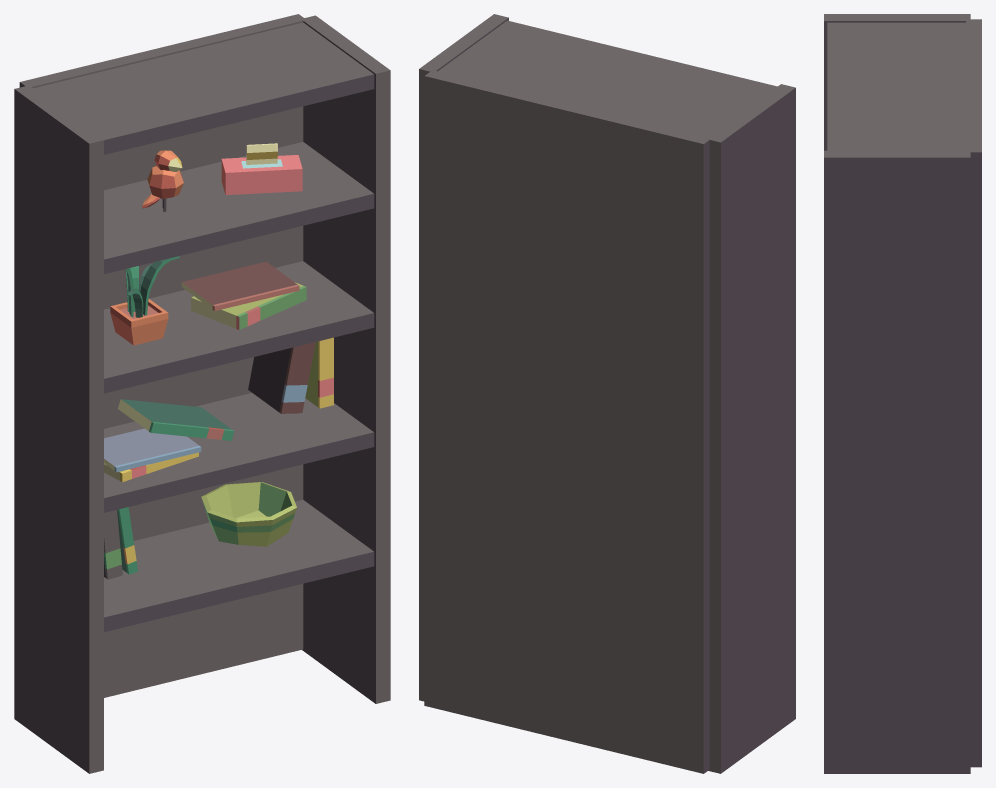
Rendered from Bookshelf.fbx.
3 renders of one model, left to right at view 1: azimuth 30°, elevation 25°; view 2: azimuth 150°, elevation 25°; view 3: azimuth 270°, elevation 25°, orthographic. The views are drawn at different scales.
Parts seen in each view (by area): view 1: Bookshelf; view 2: Bookshelf; view 3: Bookshelf.
Boxes of the visible parts, x1,y1,x2,y2 form: Bookshelf: [14, 14, 390, 773]; Bookshelf: [419, 14, 795, 773]; Bookshelf: [824, 14, 981, 773].
Bounding box in the file's own units: 214 × 427 × 99.21.
